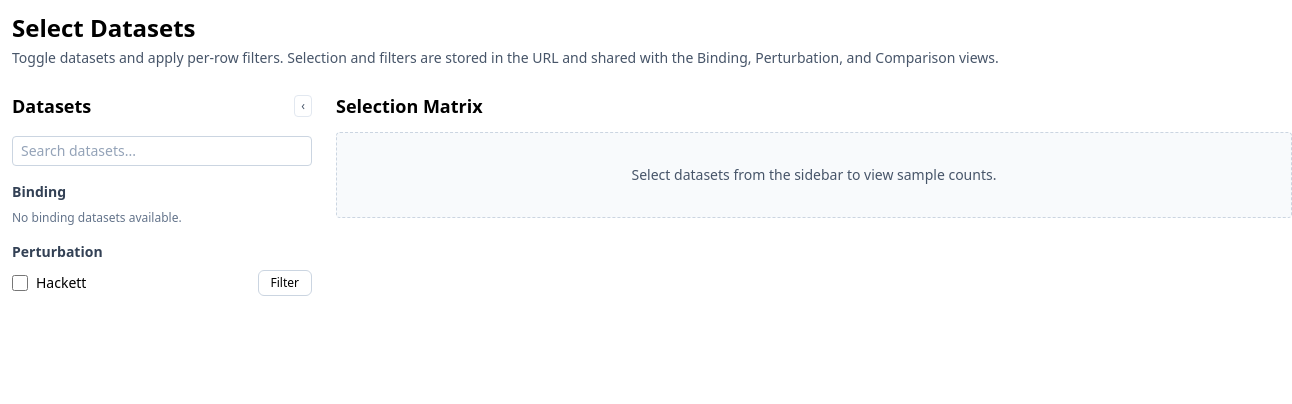
Test: Select route › dataset checkbox toggle stages a pending change and only commits on Apply (rows 18, 20, 21)
Expected: the text "Hackett" is shown, [36,273,86,293]
// Toggle the dataset on.
Click the checkbox with id "ds-hackett".
click(20, 283)  # box [12,275,28,291]
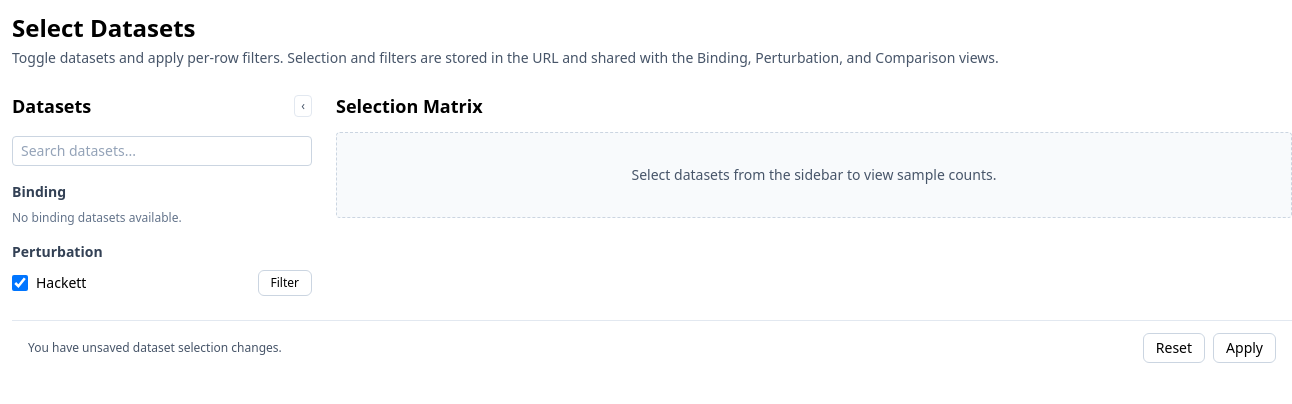
Now the footer with test id "staged-apply-footer" is shown, box [12,320,1291,375]
// Click Apply — footer disappears (committed now equals pending).
Click the button with test id "staged-apply".
click(1245, 348)  # box [1213,333,1276,363]
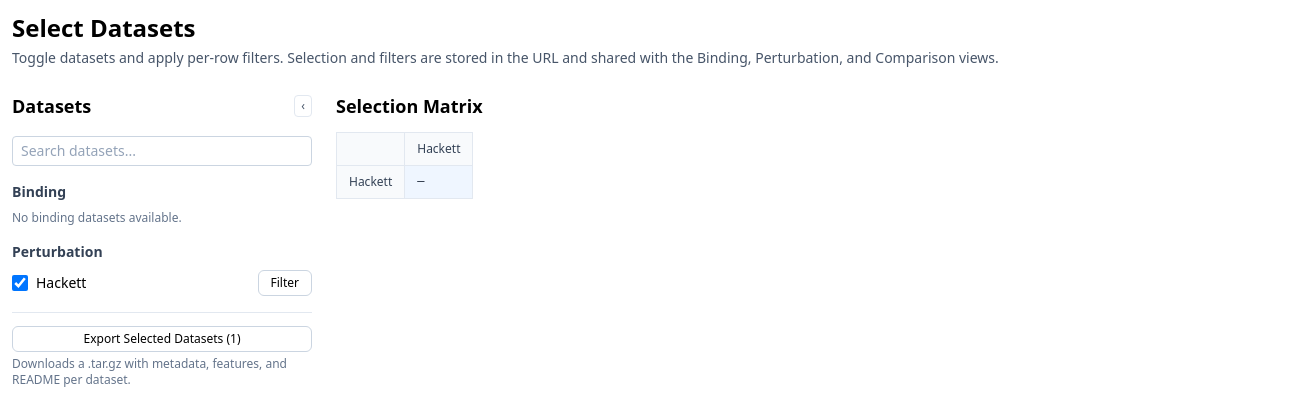
Now the footer with test id "staged-apply-footer" is gone
